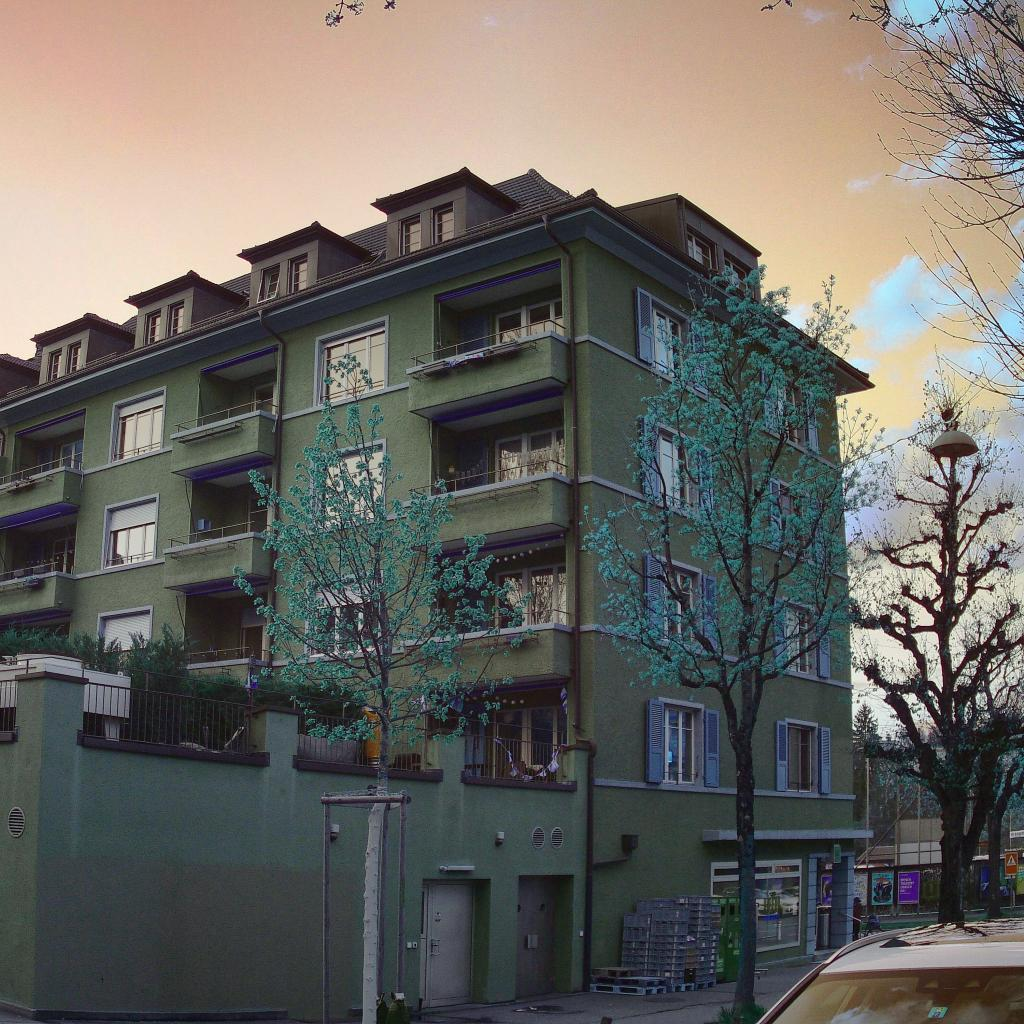balcony-fence: (409, 317, 569, 371), (407, 459, 571, 503), (402, 608, 572, 640), (173, 400, 280, 435), (165, 520, 278, 550), (0, 457, 85, 490), (0, 559, 76, 581), (184, 647, 273, 664)
facade: (0, 166, 877, 968), (853, 733, 1024, 859)
fence: (0, 659, 589, 1019)
non-building-infrastructure: (590, 898, 720, 995)
shop: (711, 856, 855, 977), (855, 851, 1024, 916)
street: (0, 977, 735, 1024), (756, 963, 820, 1010)
traffic-infrastructure: (582, 348, 1024, 547), (1005, 852, 1018, 911)
vegetation: (576, 0, 1024, 1024), (1, 353, 539, 1024)
window: (310, 577, 383, 656), (321, 323, 387, 405), (318, 445, 382, 525), (494, 563, 568, 628), (494, 427, 568, 482), (104, 498, 157, 567), (661, 563, 702, 649), (113, 391, 163, 461), (495, 297, 564, 344), (761, 365, 798, 444), (662, 704, 696, 785), (658, 429, 690, 510), (653, 304, 682, 380), (101, 609, 151, 652), (778, 484, 805, 556), (787, 725, 812, 793), (786, 606, 810, 675), (239, 618, 269, 661), (686, 229, 713, 270), (725, 256, 751, 296), (398, 213, 421, 257), (51, 537, 76, 575), (246, 494, 269, 535), (432, 202, 454, 244), (288, 253, 308, 294), (253, 381, 277, 415), (59, 439, 84, 471), (261, 264, 280, 303), (144, 308, 161, 345), (65, 340, 82, 374), (168, 300, 184, 336), (47, 348, 62, 382)
